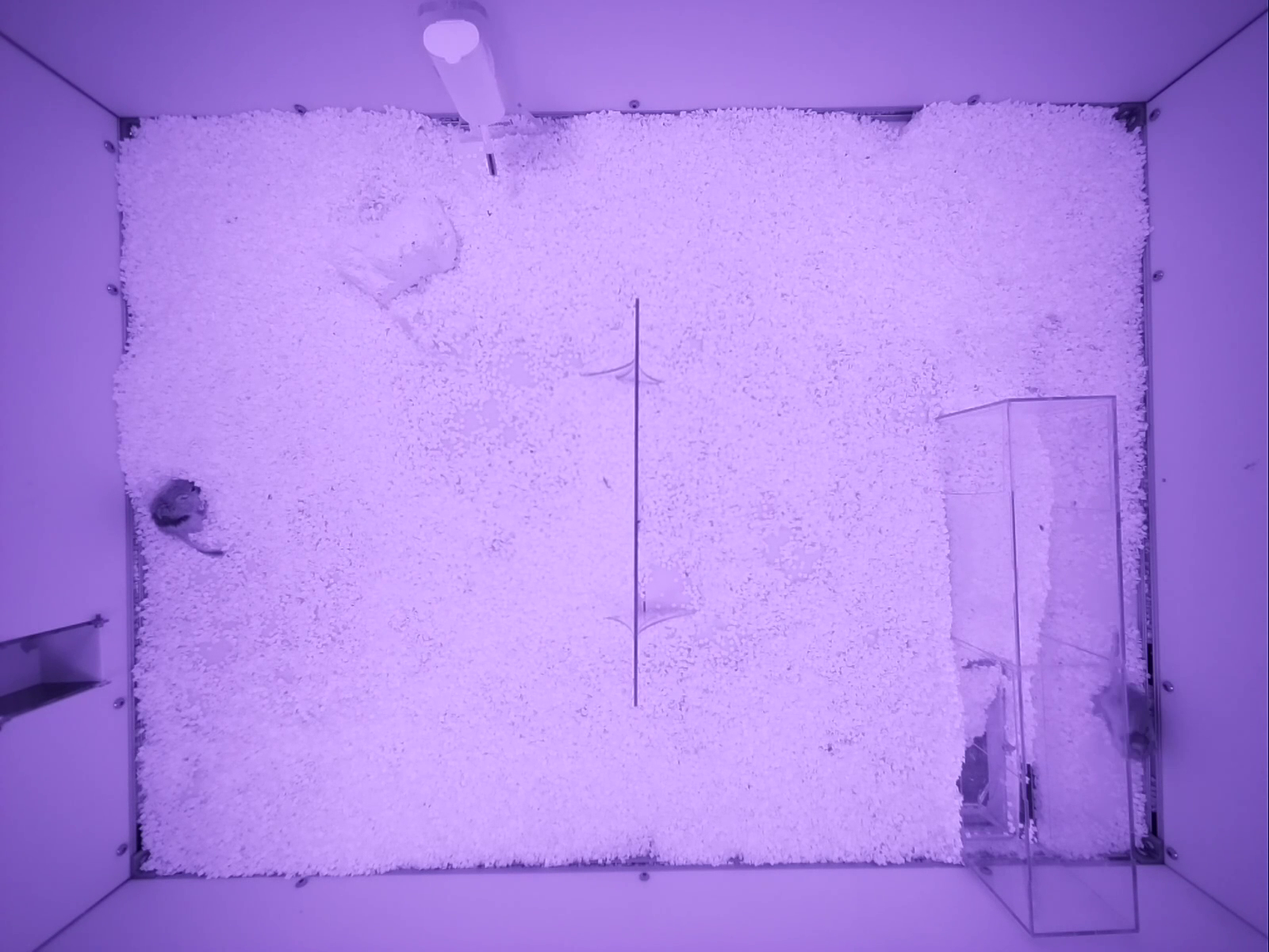adult_back: (150, 478, 224, 555), (1093, 670, 1155, 759)
